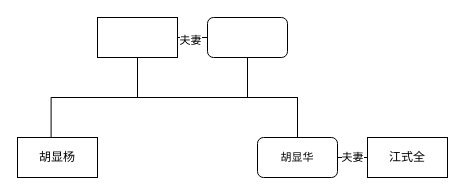
This 465x195 diagram has some shape labels left out. The centre of each missing label's shape, as x and y in pixels:
"刘洪德" goes at (247,37).
"胡秀熙" goes at (137,37).
